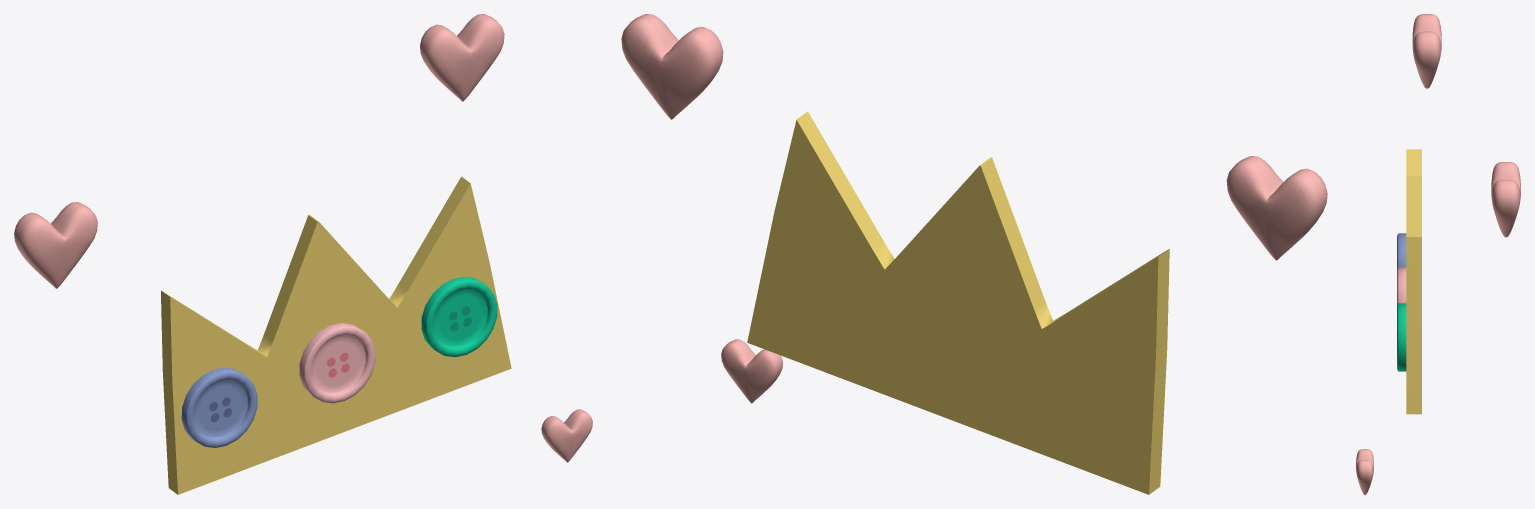
3 views of the same model, side by side, from view 1: azimuth 30°, elevation 25°; view 2: azimuth 150°, elevation 25°; view 3: azimuth 270°, elevation 25° (orthographic). The views are drawn at different scales.
Parts seen in each view (by area): view 1: crownGeo, heart, button_2, button_3, button, heart_2, heart_3; view 2: crownGeo, heart, heart_2, heart_3; view 3: crownGeo, heart, heart_2, button_3, heart_3, button_2, button.
Part boxes in pixels (box(x1,y1,x2,y2)): crownGeo: box(161, 176, 511, 494); heart: box(420, 14, 504, 101); button_2: box(299, 323, 375, 403); button_3: box(421, 276, 497, 357); button: box(181, 367, 257, 447); heart_2: box(14, 202, 97, 288); heart_3: box(541, 409, 592, 462); crownGeo: box(747, 111, 1169, 494); heart: box(621, 14, 723, 119); heart_2: box(1226, 156, 1327, 260); heart_3: box(721, 339, 782, 403); crownGeo: box(1406, 149, 1421, 414); heart: box(1491, 162, 1520, 237); heart_2: box(1412, 14, 1441, 88); button_3: box(1397, 303, 1406, 371); heart_3: box(1356, 449, 1373, 494); button_2: box(1397, 267, 1406, 305); button: box(1397, 233, 1406, 270).
Size of the model in its own units: 0.0161 by 0.011 by 0.0052.
